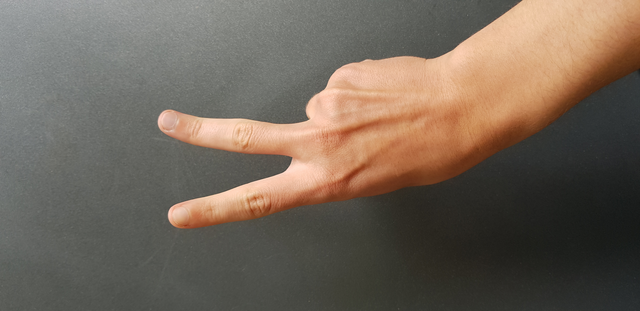Scissors: (144, 47, 487, 234)
